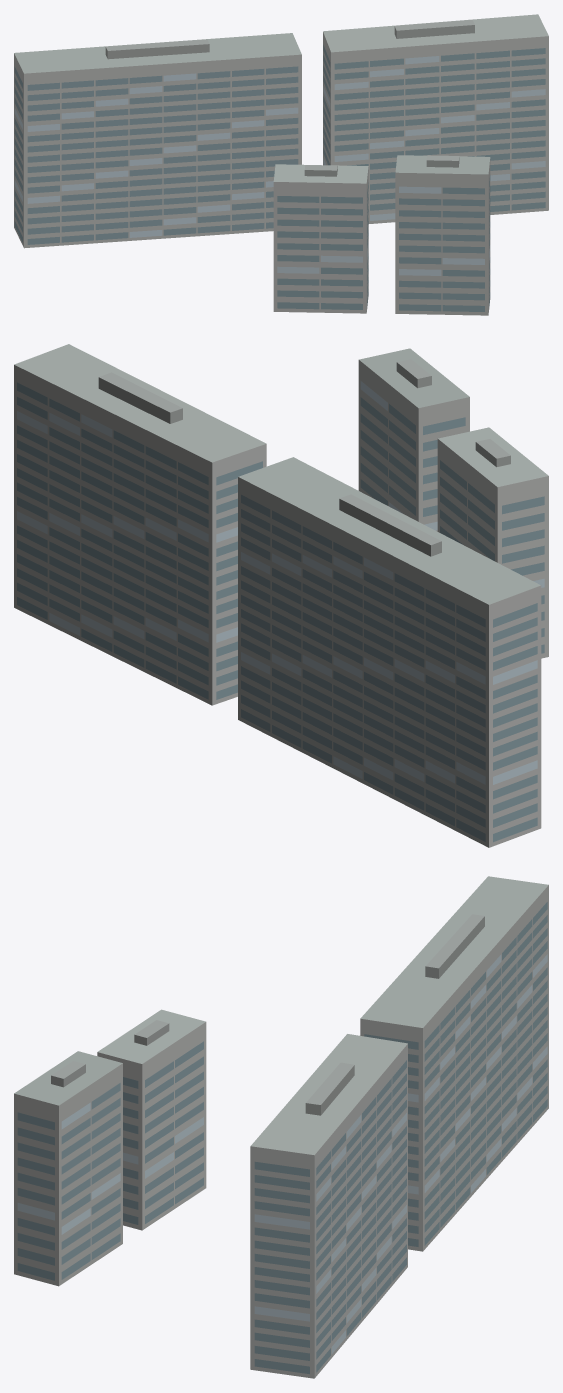
Rendered from apt-a13292701.glb.
3 views of the same model, one above another, from view 1: azimuth 30°, elevation 25°; view 2: azimuth 150°, elevation 25°; view 3: azimuth 270°, elevation 25° (orthographic). The views are drawn at different scales.
Parts seen in each view (by area): view 1: apt-a13292701; view 2: apt-a13292701; view 3: apt-a13292701.
Boxes of the visible parts, x1,y1,x2,y2 form: apt-a13292701: [14, 14, 548, 315]; apt-a13292701: [14, 344, 548, 847]; apt-a13292701: [14, 876, 548, 1378].
Bounding box in the file's own units: 120 × 47 × 97.37.
